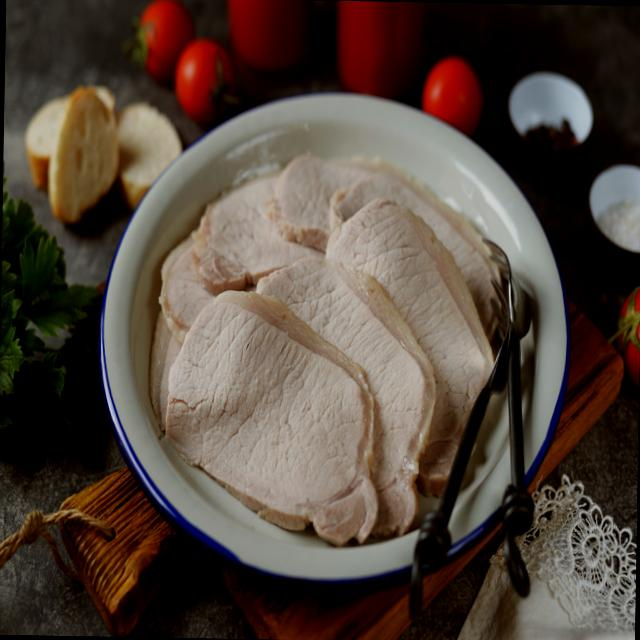ca chua: (337, 0, 423, 99), (227, 0, 309, 70), (175, 38, 239, 124), (420, 56, 481, 136), (140, 0, 193, 80)
thit luoc: (158, 154, 495, 545)
